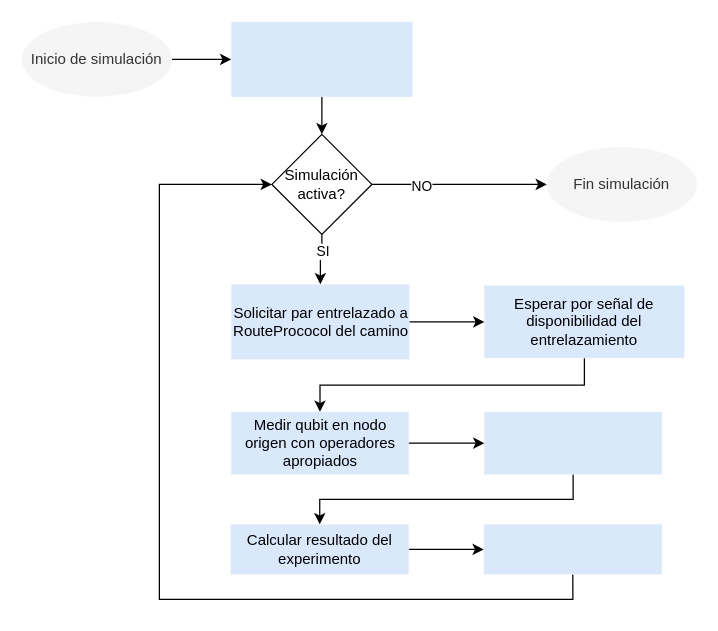
This 718x631 diagram has some shape labels left out. Each missing label, with the box of its shape:
Calcular operadores del experimento: (231, 21, 412, 96)
Medir qubit en nodo destino con operadores apropiados: (484, 411, 661, 474)
Registrar resultado en el datacollector: (483, 524, 661, 574)
